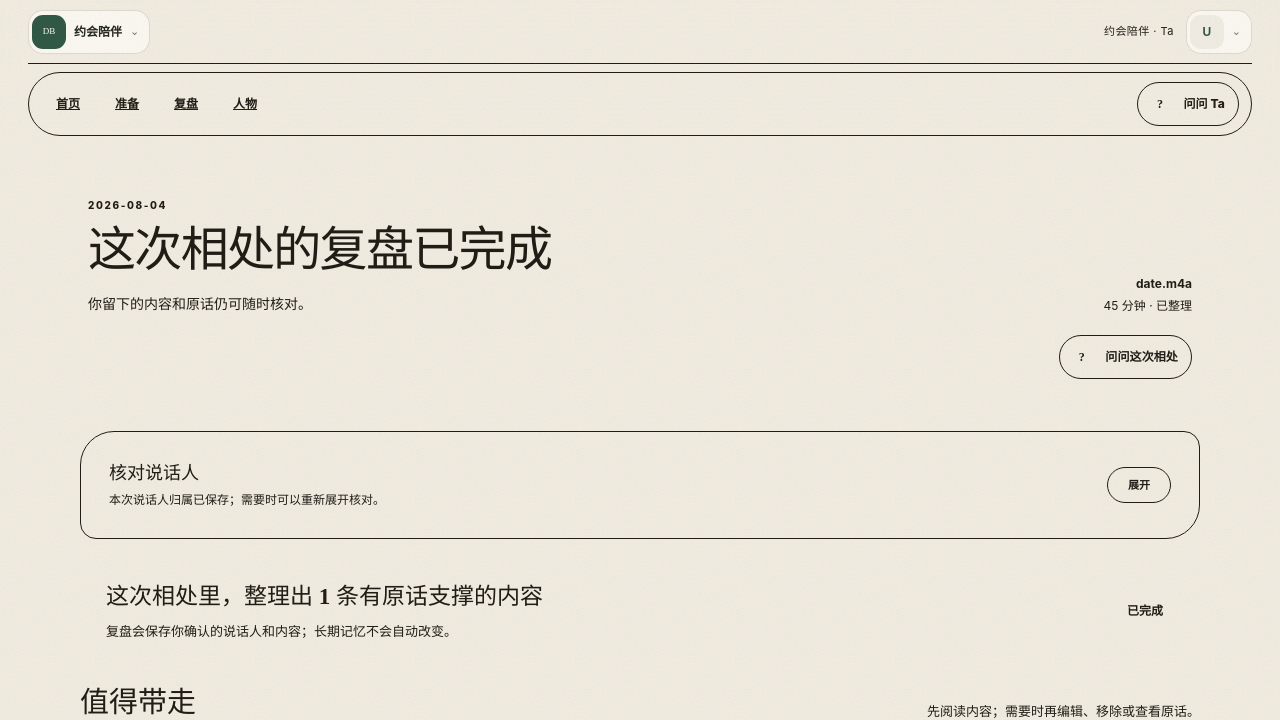
it: DateCompanionShell › keeps an evidence-only historical recap read-only while Person-scoped QA remains available
Click the button "? 问问这次相处" at (1126, 357), box [1059, 335, 1192, 379]
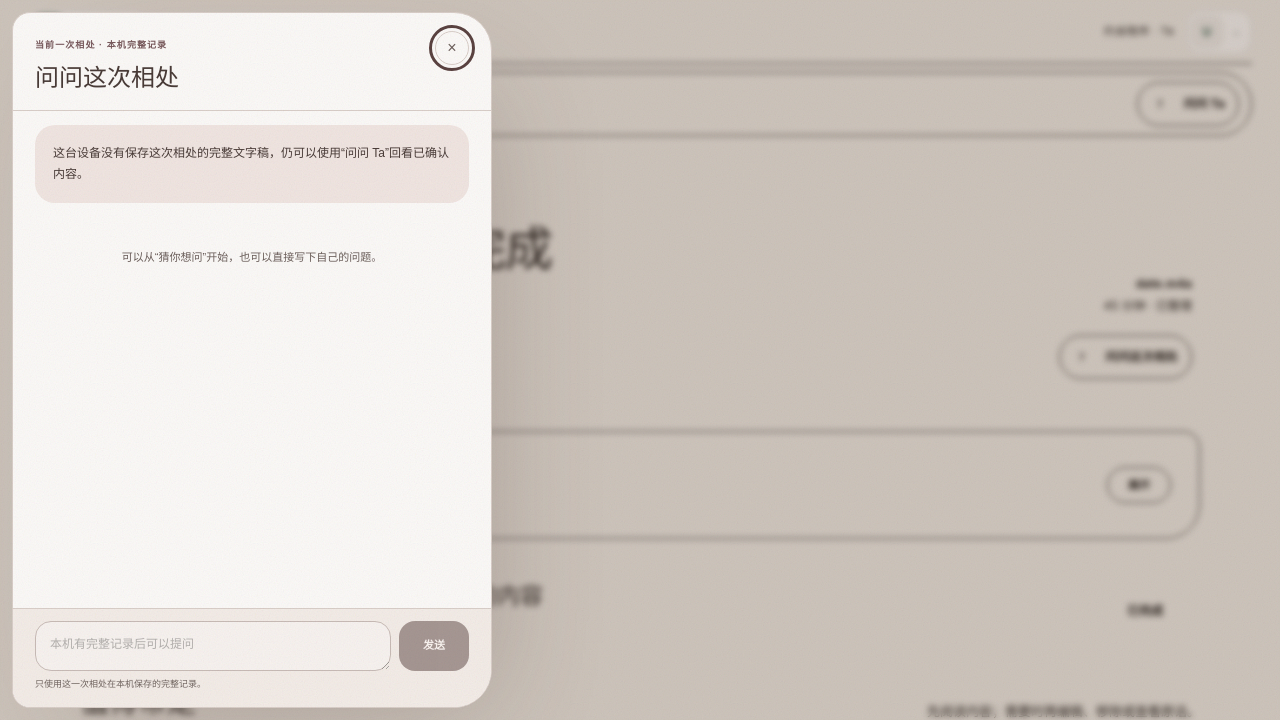
Expected: the text box named "针对这次相处提问" is disabled, [35, 620, 391, 670]
Expected: the text "这台设备没有保存这次相处的完整文字稿，仍可以使用“问问 Ta”回看已确认内容。" is shown, [53, 143, 451, 185]
Click the button named "关闭" at (452, 48), box [435, 31, 469, 65]
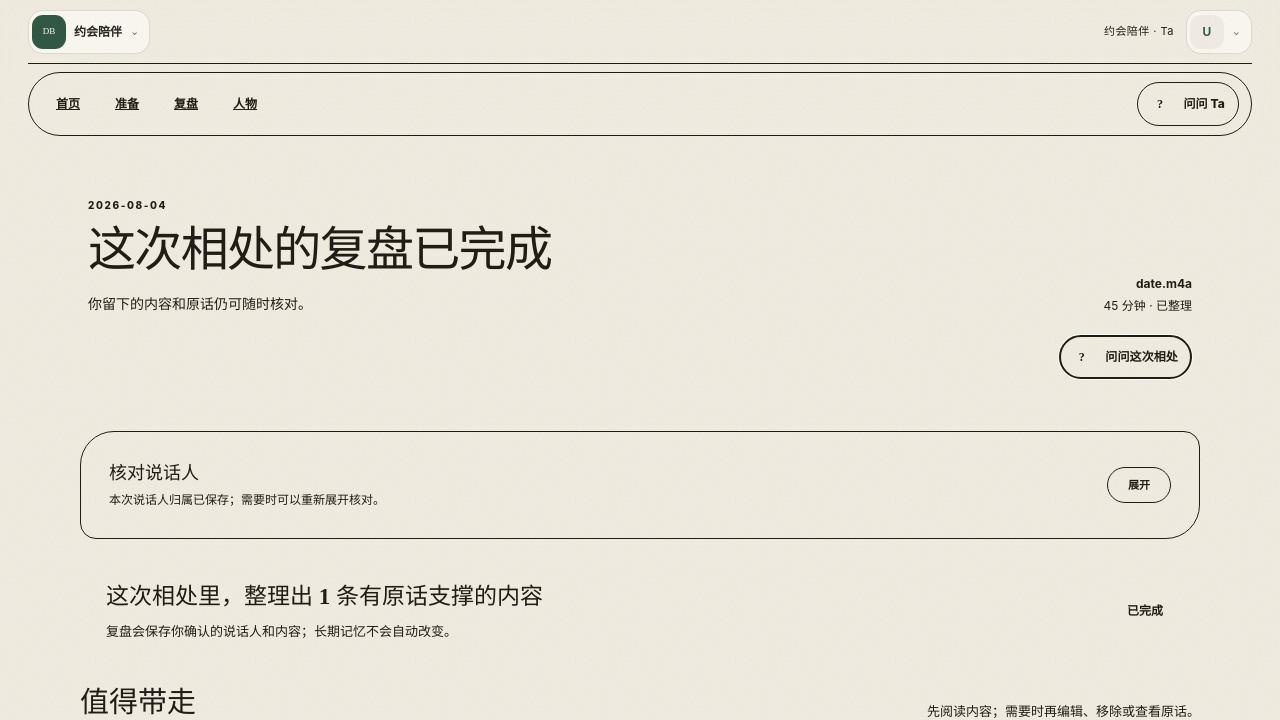
Click the button "? 问问 Ta" at (1188, 104), box [1138, 82, 1239, 126]
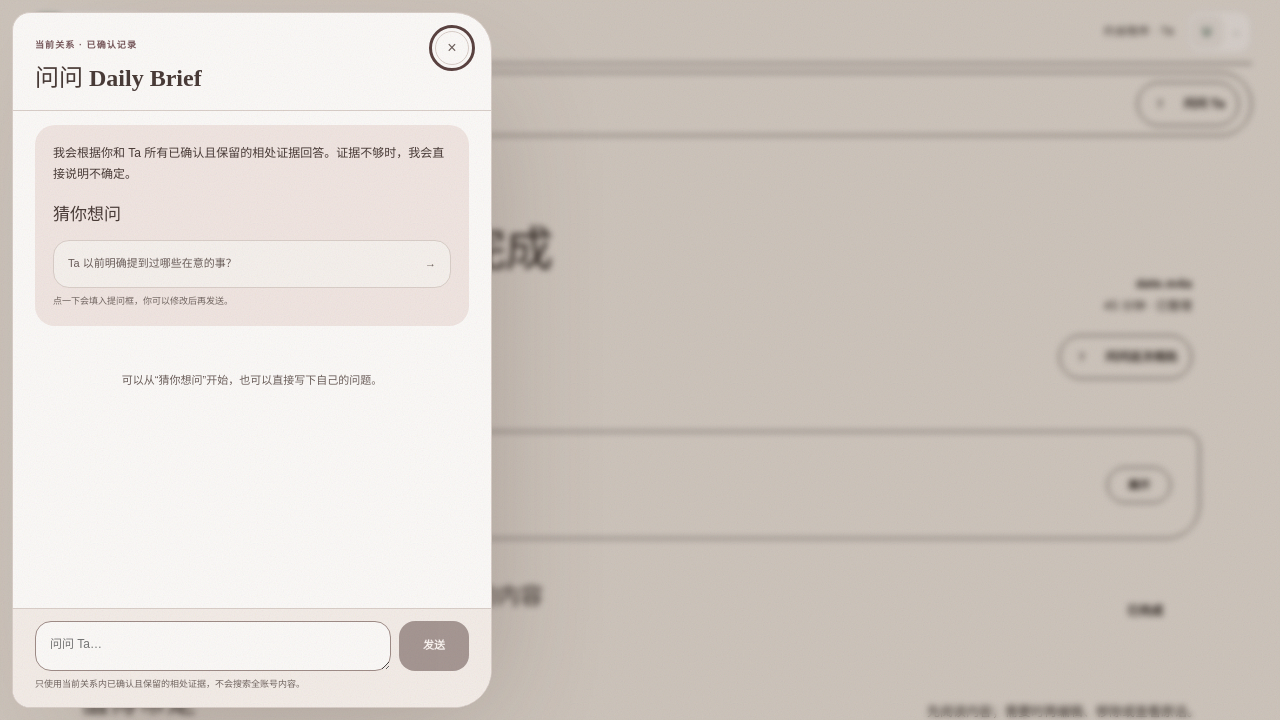
Expected: the text box named "向 Ta 的相处记录提问" is enabled, [35, 620, 391, 670]
